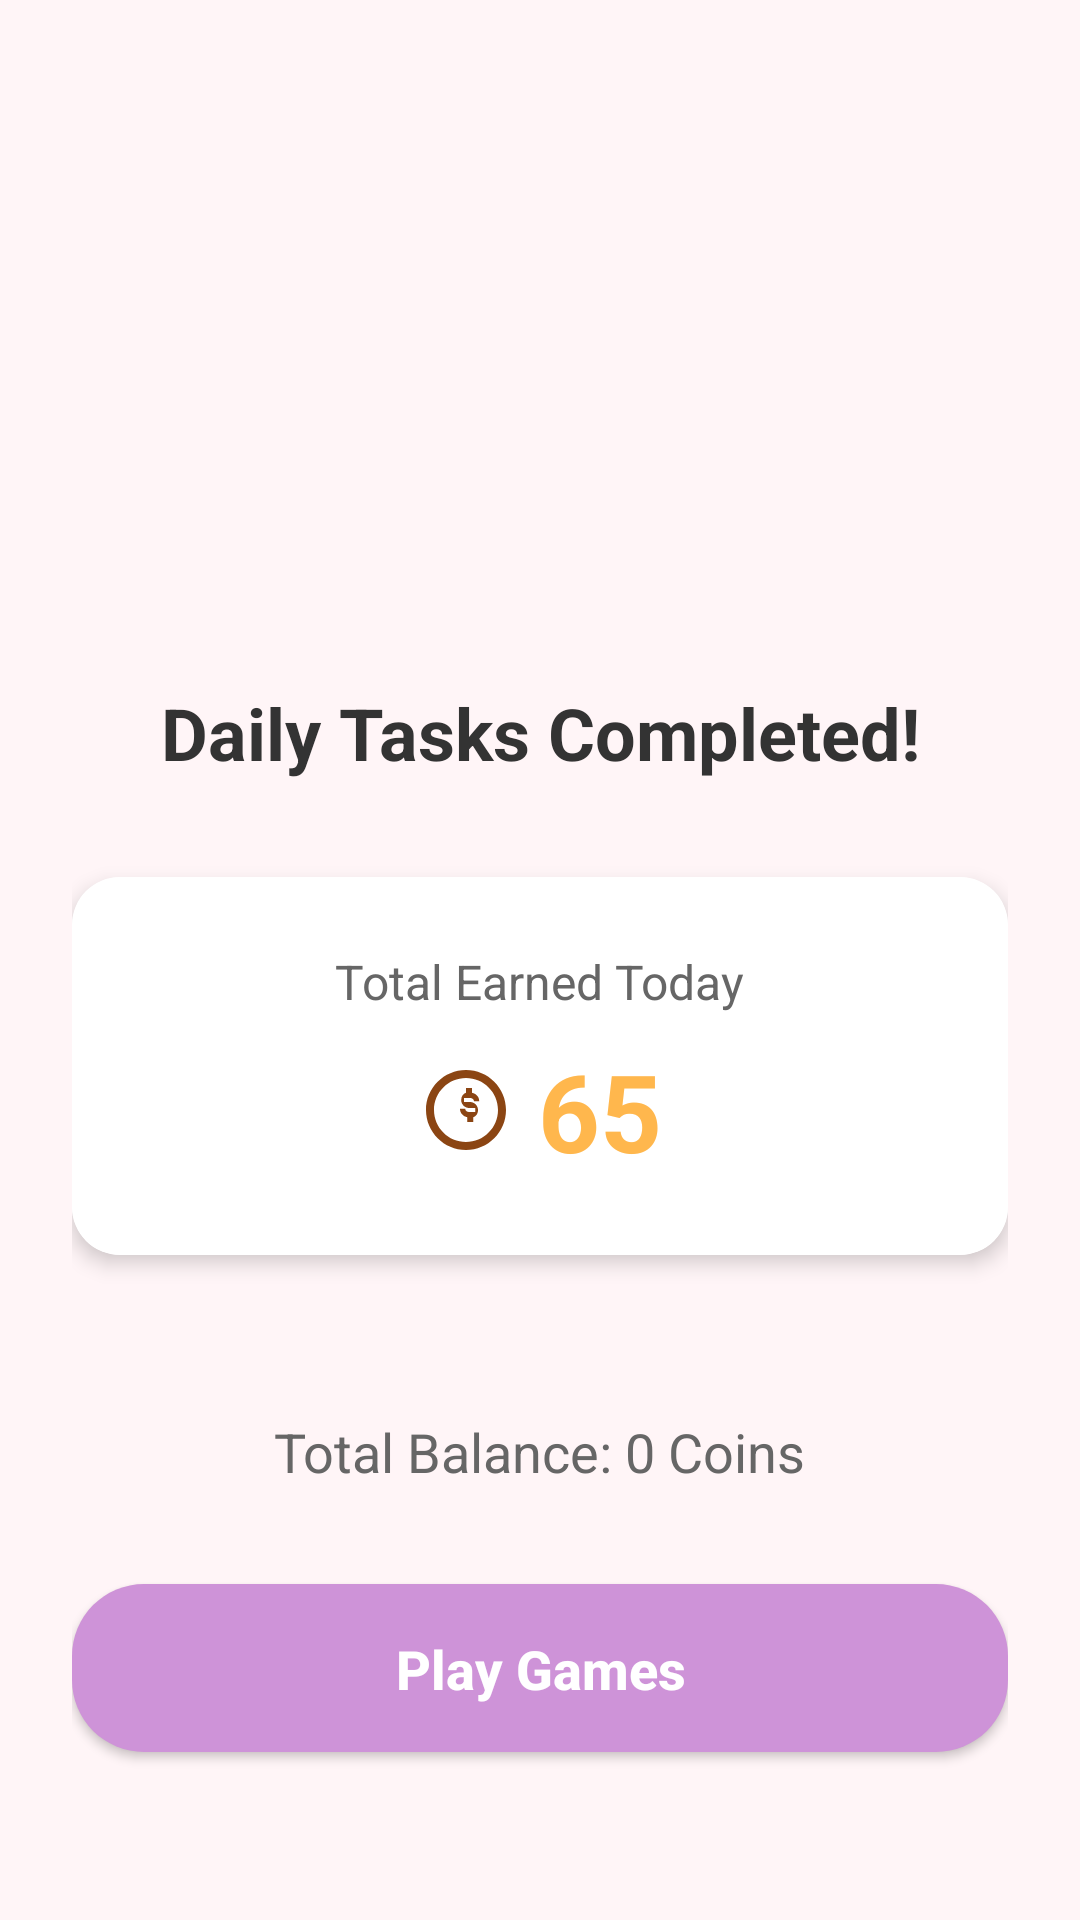

Named icons in this screenshot (1080 x 1920) and their centers, (x,y):
coins: (466,1110)
